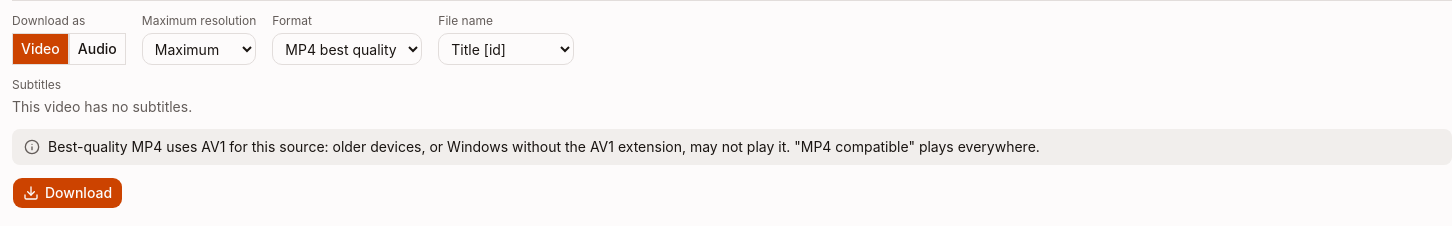
Scenario: a rejected download shows its error and can be tried again
This screenshot has width=1452, height=226.
Click the button "Download" at x=68, y=193, box [12,177,123,209]
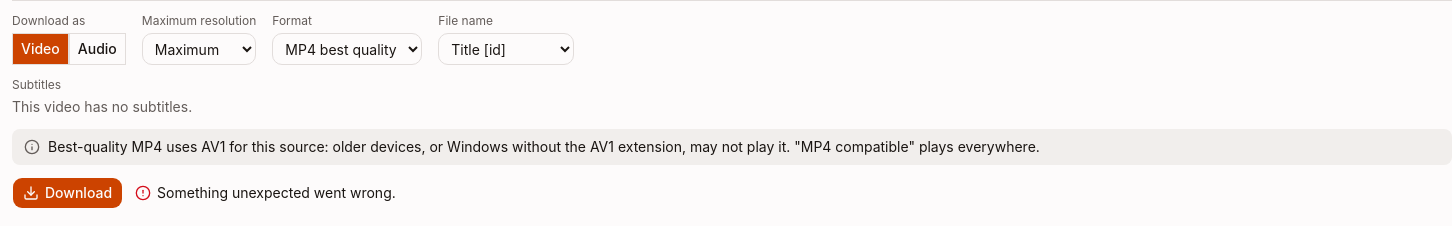
Expected: the message shows "unexpected", [157,184,396,201]
